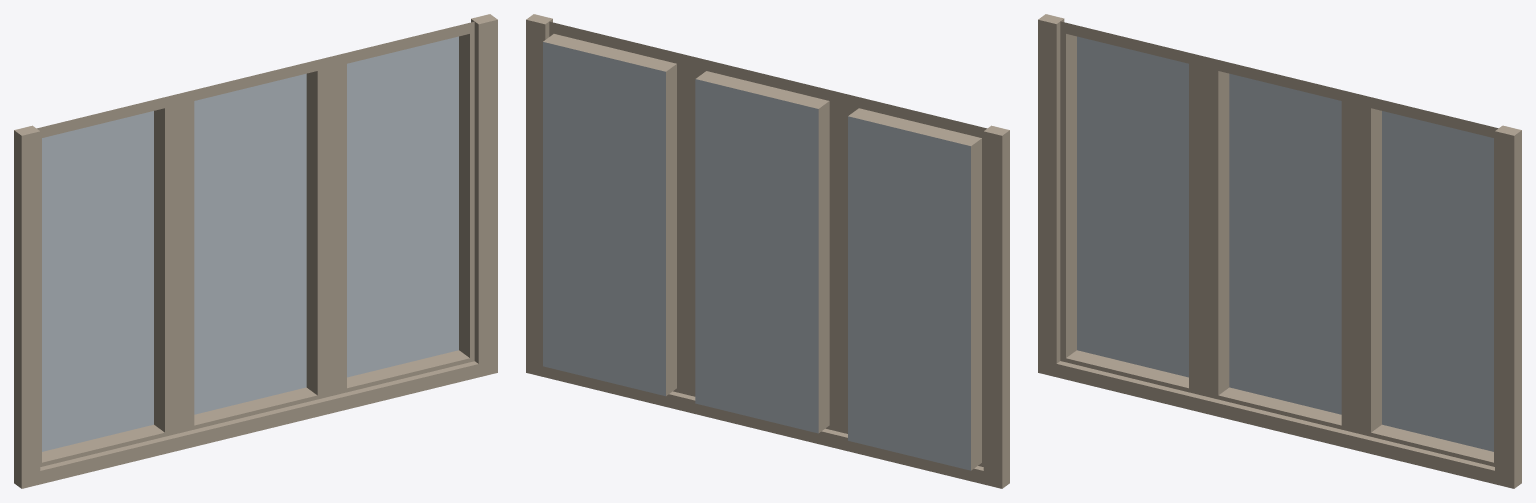
Rendered from fbx_building_1_window1.fbx.
3 renders of one model, left to right at view 1: azimuth 30°, elevation 25°; view 2: azimuth 150°, elevation 25°; view 3: azimuth 330°, elevation 25°, orthographic.
Visible parts, largest first — view 1: fbx_building_1_window1; view 2: fbx_building_1_window1; view 3: fbx_building_1_window1.
Part boxes in pixels (x1=…): fbx_building_1_window1: x1=14, y1=14, x2=497, y2=488; fbx_building_1_window1: x1=526, y1=14, x2=1009, y2=488; fbx_building_1_window1: x1=1038, y1=14, x2=1521, y2=488.
Size of the model in its own units: 1.07 by 0.7599 by 0.058.
Materials: 2 (1 with a texture image).
